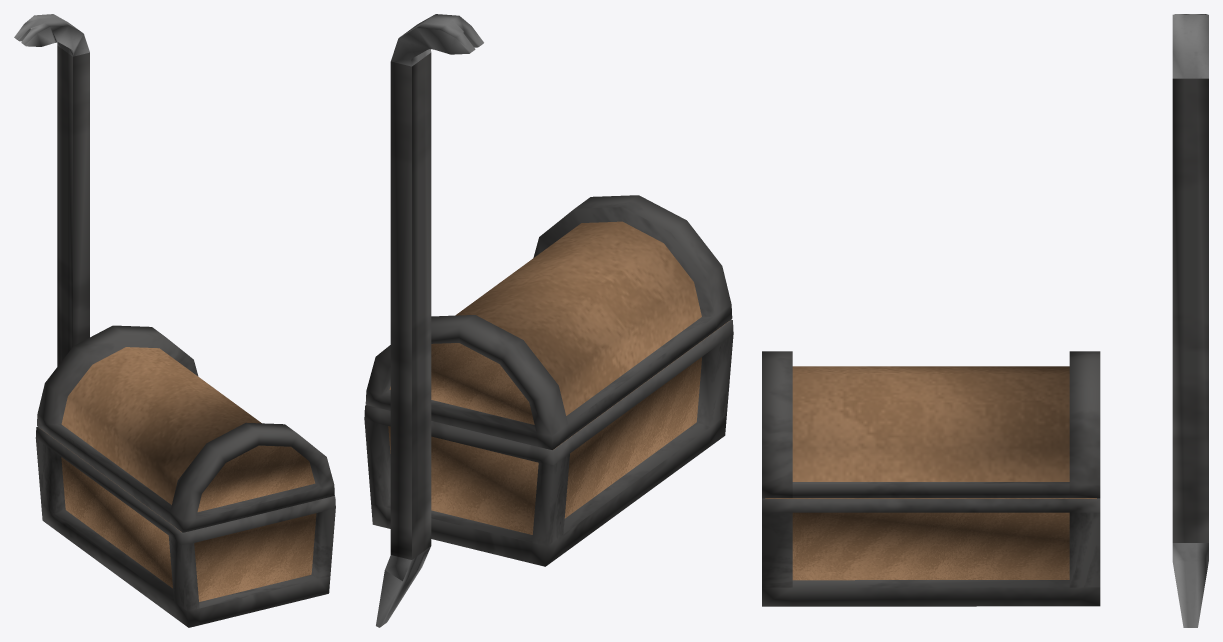
File: chest & crowbar.fbx
3 renders of one model, left to right at view 1: azimuth 30°, elevation 25°; view 2: azimuth 150°, elevation 25°; view 3: azimuth 270°, elevation 25°, orthographic. The views are drawn at different scales.
Visible parts, largest first — view 1: Cylinder.002, Cube; view 2: Cylinder.002, Cube; view 3: Cylinder.002, Cube.
Boxes of the visible parts, x1,y1,x2,y2 form: Cylinder.002: (35,325,335,627); Cube: (14,14,89,366); Cylinder.002: (364,195,733,566); Cube: (376,14,483,627); Cylinder.002: (762,351,1100,606); Cube: (1172,14,1208,627).
Size of the model in its own units: 196 by 613 by 427.
1 material, 1 textured.
